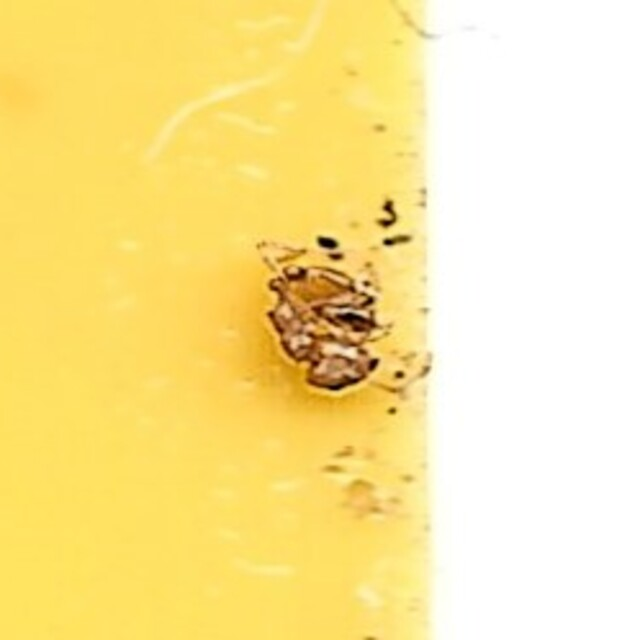Hymenoptera: (257, 242, 383, 398)
